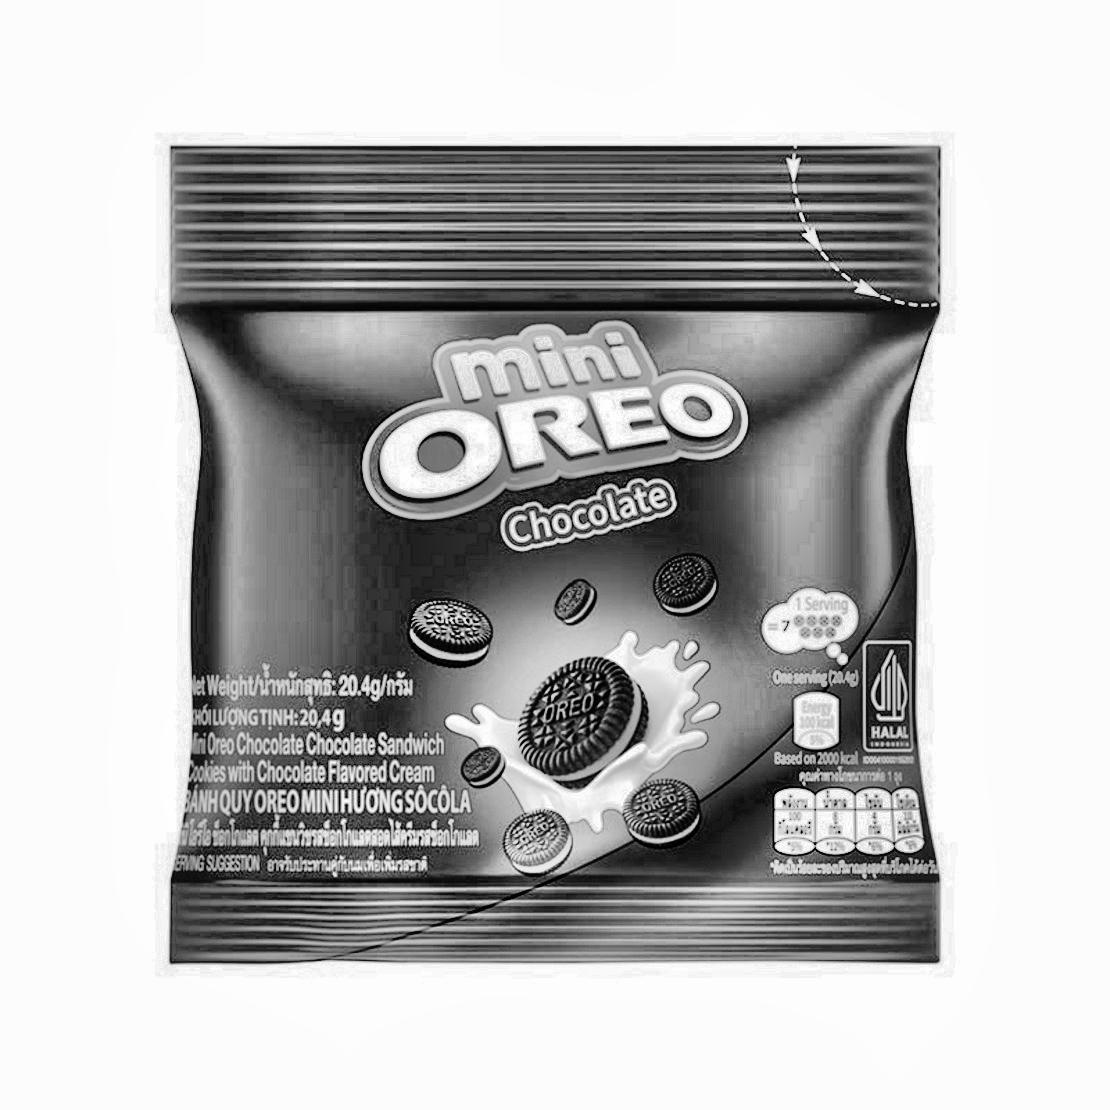snackbag: (85, 70, 1030, 1046)
